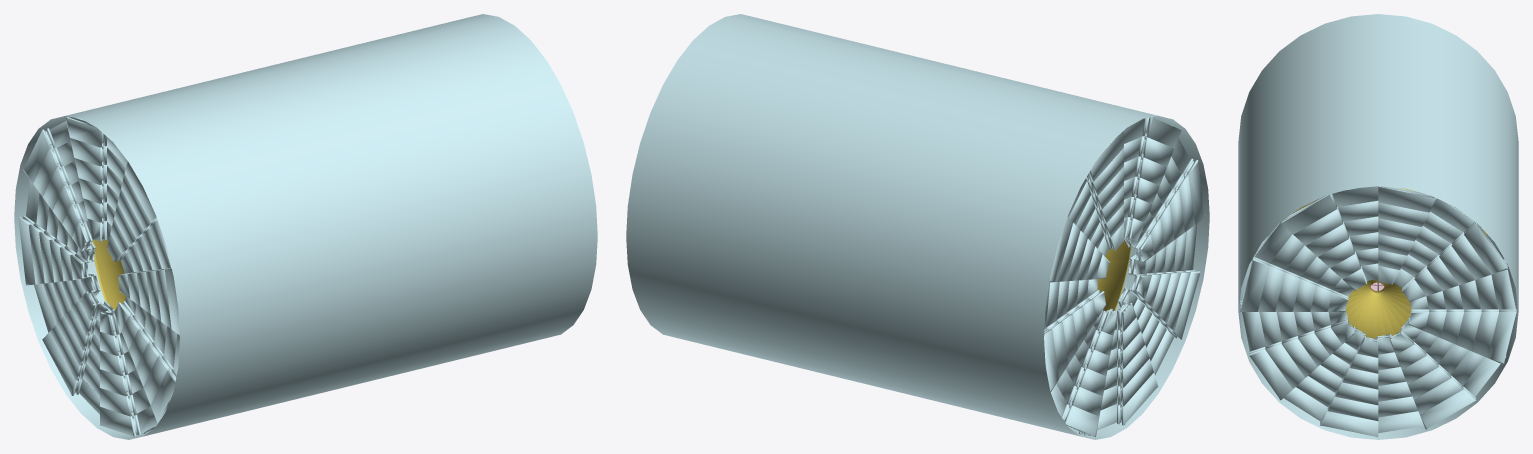
Rendered from LHC_atlas_lite_06.fbx.
3 renders of one model, left to right at view 1: azimuth 30°, elevation 25°; view 2: azimuth 150°, elevation 25°; view 3: azimuth 270°, elevation 25°, orthographic. The views are drawn at different scales.
Visible parts, largest first — view 1: ZONE4_REEL.002, ZONE3_REEL.001; view 2: ZONE4_REEL.002, ZONE3_REEL.001; view 3: ZONE4_REEL.002, ZONE3_REEL.001.
Boxes of the visible parts, x1,y1,x2,y2 form: ZONE4_REEL.002: (14, 14, 597, 439); ZONE3_REEL.001: (92, 239, 125, 310); ZONE4_REEL.002: (626, 14, 1209, 439); ZONE3_REEL.001: (1097, 239, 1131, 310); ZONE4_REEL.002: (1238, 14, 1518, 439); ZONE3_REEL.001: (1292, 188, 1487, 338).
Size of the model in its own units: 423 by 290 by 290.
